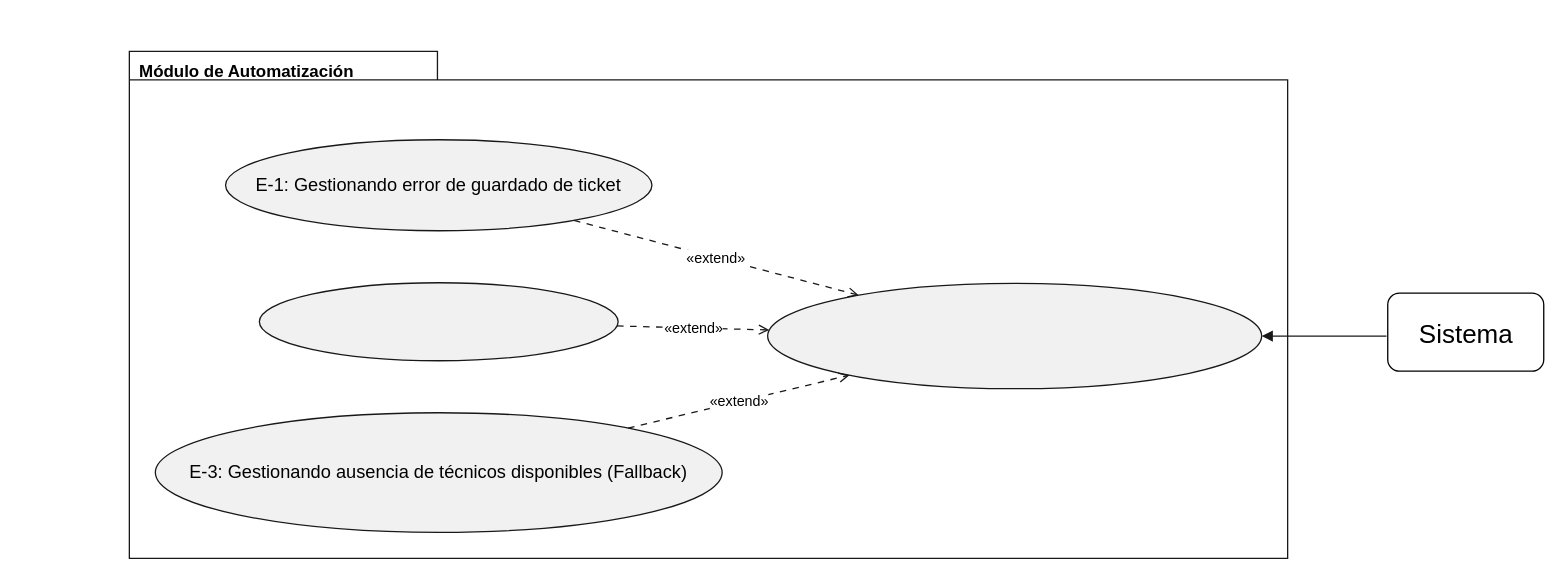
The diagram is 1567 pixels wide and 581 high, and some of its shapes have lost their labels. The shapes that lost their labels are listed below. From the top down, each one's centre as x and y in pixels, then its label:
At [438,321]: "E-2: Validando categoría no definida".
At [1014,335]: "CU-06: Ejecutando Asignación Automática de Tickets".
